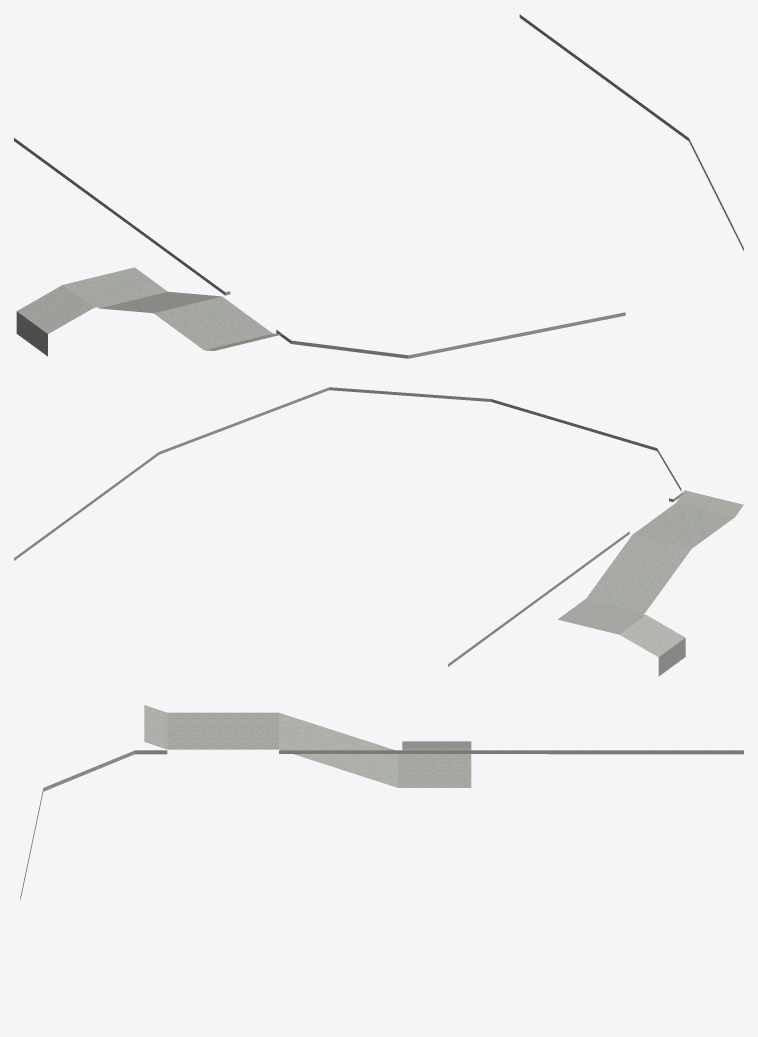
The model's file is kd_stage_1363c5_10_4_bounded.glb.
The picture shows the model from 3 angles, top to bottom: view 1: azimuth 30°, elevation 25°; view 2: azimuth 150°, elevation 25°; view 3: azimuth 270°, elevation 25°; orthographic projection. The views are drawn at different scales.
Parts seen in each view (by area): view 1: kd_stage_1363c5_10_4_bounded; view 2: kd_stage_1363c5_10_4_bounded; view 3: kd_stage_1363c5_10_4_bounded.
Boxes of the visible parts, box(x1,y1,x2,y2) form: kd_stage_1363c5_10_4_bounded: box(14, 14, 743, 358); kd_stage_1363c5_10_4_bounded: box(14, 387, 743, 676); kd_stage_1363c5_10_4_bounded: box(20, 705, 743, 900).
Bounding box in the file's own units: 76.58 × 9.28 × 70.21.
1 material, 1 textured.
